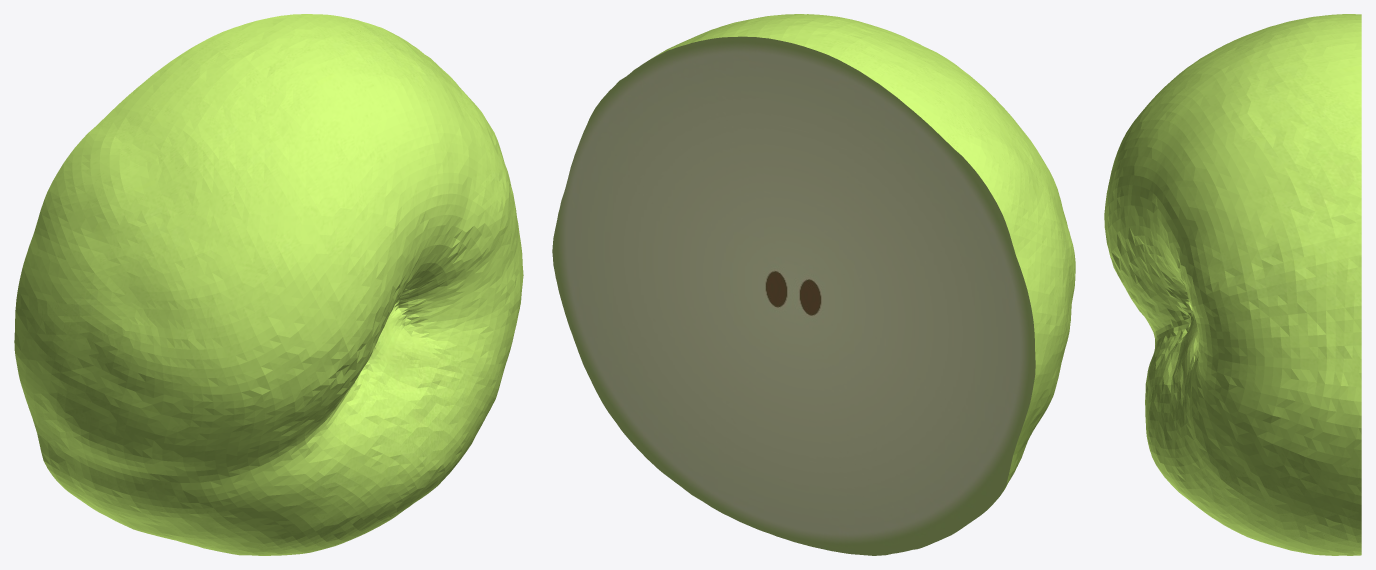
File: shine_muscat_right.obj
3 views of the same model, side by side, from view 1: azimuth 30°, elevation 25°; view 2: azimuth 150°, elevation 25°; view 3: azimuth 270°, elevation 25° (orthographic).
Parts seen in each view (by area): view 1: fruit_half; view 2: fruit_half; view 3: fruit_half.
Boxes of the visible parts, bbox=[...] form: fruit_half: bbox=[14, 14, 523, 555]; fruit_half: bbox=[552, 14, 1075, 555]; fruit_half: bbox=[1104, 14, 1361, 555].
Size of the model in its own units: 1.61 by 1.59 by 0.751.
